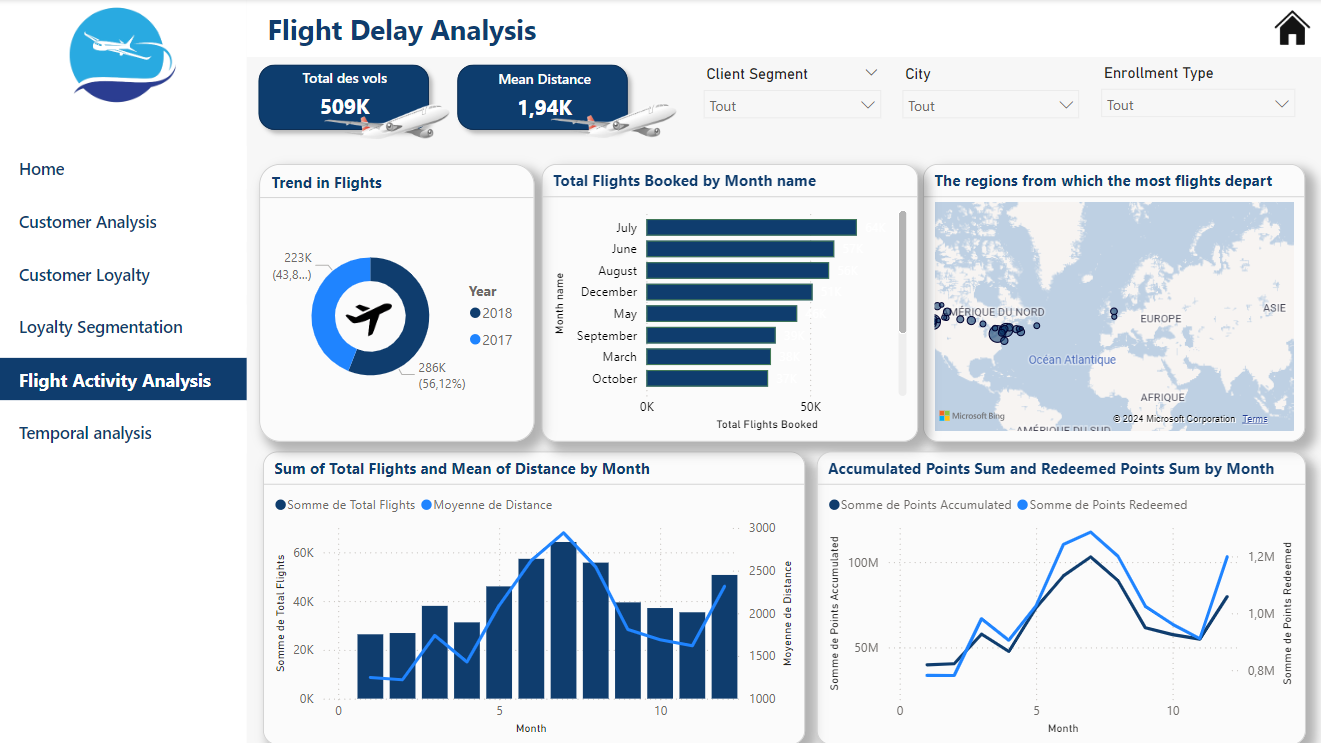

The dashboard page shown, as its layout file describes it:
{"tool":"powerbi","page":{"name":"Flight Activity Analysis ","canvas":[1280,720],"ordinal":4},"visuals":[{"type":"shape","box":[242.3,54.9,182.5,81.2],"z":0},{"type":"shape","box":[0,0,240.1,720.4],"z":1000},{"type":"shape","box":[239.9,0,1040.1,56.3],"z":2000},{"type":"image","box":[60,0,118.6,107.1],"z":3000},{"type":"image","box":[1218.6,0,61.4,55.7],"z":4000},{"type":"lineStackedColumnComboChart","title":"Sum of Total Flights and Mean of Distance by Month","fields":{"Category":["Customer Flight Activity.Month"],"Y":["Sum(Customer Flight Activity.Total Flights)"],"Y2":["Avg(Customer Flight Activity.Distance)"]},"box":[255.8,436.7,523.6,283.5],"z":5000},{"type":"card","title":"Total des vols","fields":{"Values":["Sum(Customer Flight Activity.Total Flights)"]},"box":[255.8,65.9,157.8,60.4],"z":6000},{"type":"map","title":"The regions from which the most flights depart","fields":{"Size":["Sum(Customer Flight Activity.Total Flights)"],"Category":["Customer Loyalty History.City"]},"box":[892.8,159.3,369.2,267.8],"z":7000},{"type":"shape","box":[434,54.7,182.5,81.2],"z":8000},{"type":"card","title":"Mean Distance","fields":{"Values":["Avg(Customer Flight Activity.Distance)"]},"box":[449.2,67.7,157.5,60],"z":9000},{"type":"image","box":[525,76.5,136.8,72.1],"z":10000},{"type":"donutChart","title":"Trend in Flights","fields":{"Category":["Customer Flight Activity.Year","Customer Flight Activity.Month"],"Y":["Sum(Customer Flight Activity.Total Flights)"]},"box":[252.1,159.3,265.4,267.8],"z":11000},{"type":"slicer","fields":{"Values":["Customer Loyalty History.City"]},"box":[863.1,59,190.7,56.3],"z":12000},{"type":"slicer","fields":{"Values":["Customer Loyalty History.Enrollment Type"]},"box":[1053.9,57.6,207.2,56.3],"z":13000},{"type":"image","box":[306,76.8,135.8,72.7],"z":14000},{"type":"image","box":[330.6,279.9,54.3,55.5],"z":15000},{"type":"pageNavigator","box":[0,142.4,240.1,298],"z":16000},{"type":"clusteredBarChart","title":"Total Flights Booked by Month name","fields":{"Y":["Measures Table.Total Flights Booked"],"Category":["Customer Flight Activity.Monthname"]},"box":[524.8,159.3,363.1,267.8],"z":17000},{"type":"lineChart","title":"Accumulated Points Sum and Redeemed Points Sum by Month","fields":{"Category":["Customer Flight Activity.Month"],"Y2":["Sum(Customer Flight Activity.Points Redeemed)"],"Y":["Sum(Customer Flight Activity.Points Accumulated)"]},"box":[790.2,436.7,471.7,283.5],"z":18000},{"type":"slicer","fields":{"Values":["Customer Flight Activity.Client Segment"]},"box":[671.2,58.8,191.2,56.2],"z":19000}]}

Visuals, with their boxes on the page's 1280x720 design canvas (x1, y1, x2, y2). These are canvas units, not pixel positions in the 1321x743 screenshot, which may show the page scaled, cropped or inside an application window:
shape: {"left": 242, "top": 55, "right": 425, "bottom": 136}
shape: {"left": 0, "top": 0, "right": 240, "bottom": 720}
shape: {"left": 240, "top": 0, "right": 1280, "bottom": 56}
image: {"left": 60, "top": 0, "right": 179, "bottom": 107}
image: {"left": 1219, "top": 0, "right": 1280, "bottom": 56}
"Sum of Total Flights and Mean of Distance by Month" lineStackedColumnComboChart: {"left": 256, "top": 437, "right": 779, "bottom": 720}
"Total des vols" card: {"left": 256, "top": 66, "right": 414, "bottom": 126}
"The regions from which the most flights depart" map: {"left": 893, "top": 159, "right": 1262, "bottom": 427}
shape: {"left": 434, "top": 55, "right": 616, "bottom": 136}
"Mean Distance" card: {"left": 449, "top": 68, "right": 607, "bottom": 128}
image: {"left": 525, "top": 76, "right": 662, "bottom": 149}
"Trend in Flights" donutChart: {"left": 252, "top": 159, "right": 518, "bottom": 427}
slicer - Customer Loyalty History.City: {"left": 863, "top": 59, "right": 1054, "bottom": 115}
slicer - Customer Loyalty History.Enrollment Type: {"left": 1054, "top": 58, "right": 1261, "bottom": 114}
image: {"left": 306, "top": 77, "right": 442, "bottom": 150}
image: {"left": 331, "top": 280, "right": 385, "bottom": 335}
pageNavigator: {"left": 0, "top": 142, "right": 240, "bottom": 440}
"Total Flights Booked by Month name" clusteredBarChart: {"left": 525, "top": 159, "right": 888, "bottom": 427}
"Accumulated Points Sum and Redeemed Points Sum by Month" lineChart: {"left": 790, "top": 437, "right": 1262, "bottom": 720}
slicer - Customer Flight Activity.Client Segment: {"left": 671, "top": 59, "right": 862, "bottom": 115}
